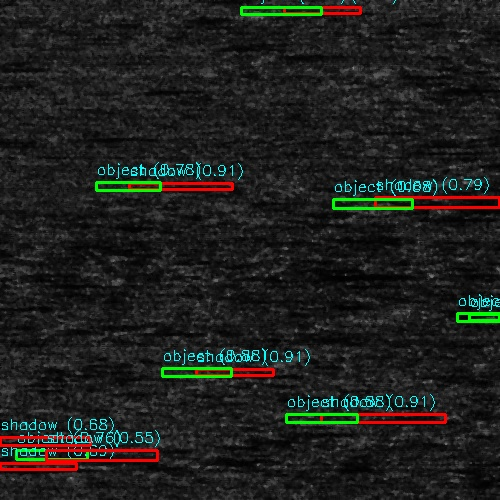rock: (291, 416, 374, 423), (421, 161, 500, 168), (166, 369, 239, 374), (468, 314, 500, 319)
shadow: (0, 436, 98, 447), (333, 416, 439, 423), (203, 369, 300, 374), (468, 161, 500, 168)
